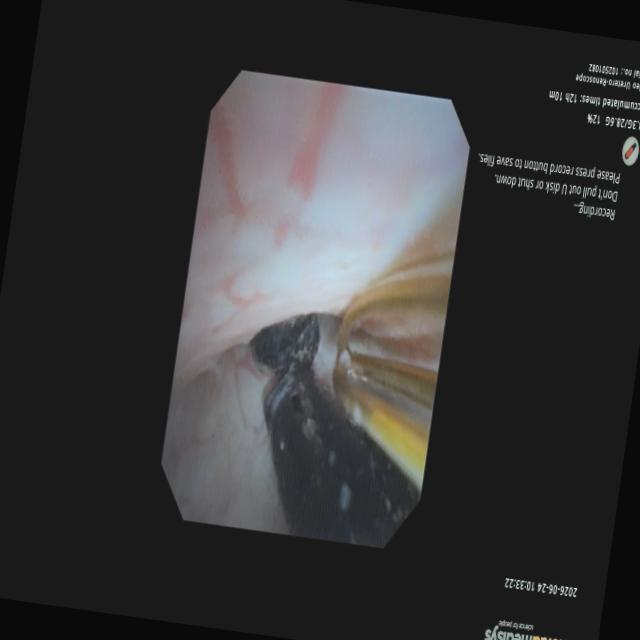stone-new: (264, 369, 420, 548), (251, 314, 320, 377)
